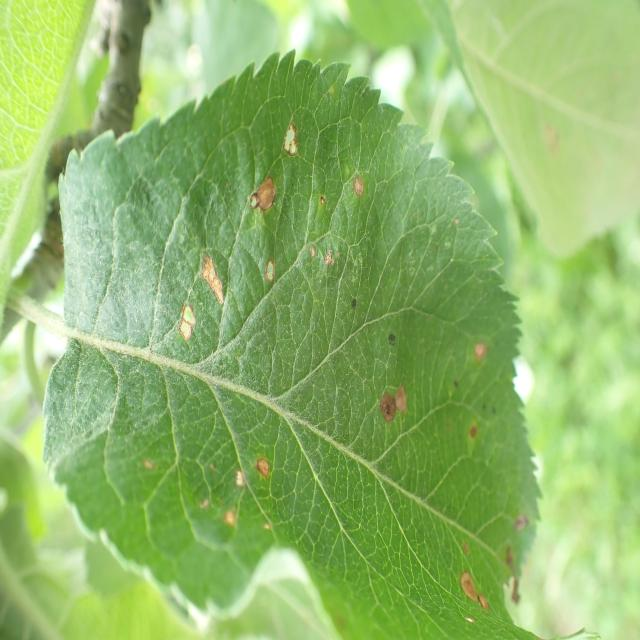Black Rot: (194, 232, 236, 320), (366, 366, 417, 436), (444, 568, 496, 634), (238, 158, 280, 230), (160, 290, 203, 353), (256, 248, 289, 304), (454, 419, 498, 460), (461, 319, 497, 368), (252, 436, 282, 492), (306, 236, 346, 274), (276, 112, 302, 167), (512, 494, 538, 544), (184, 486, 214, 526), (222, 458, 247, 502), (217, 509, 250, 539), (348, 149, 367, 200), (135, 453, 161, 489)
